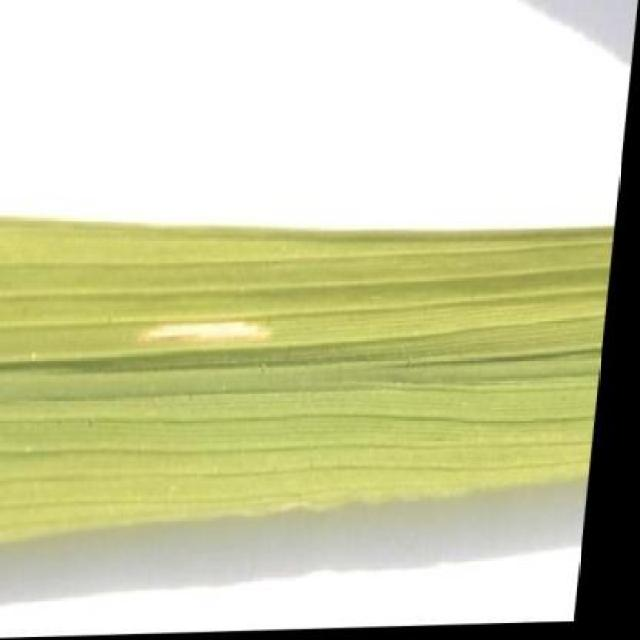Brown_Spot: (0, 162, 625, 553)
